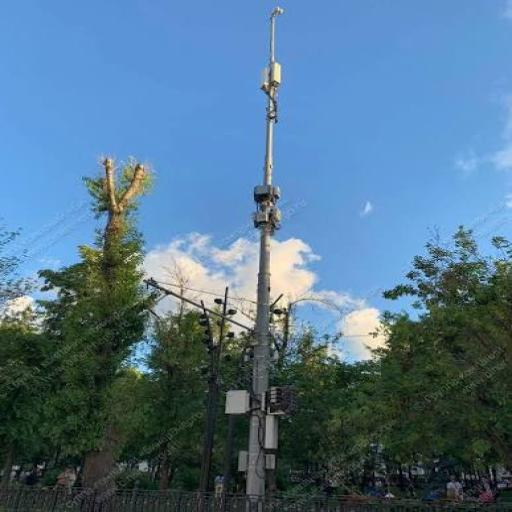odn_pole: (225, 6, 291, 511)
